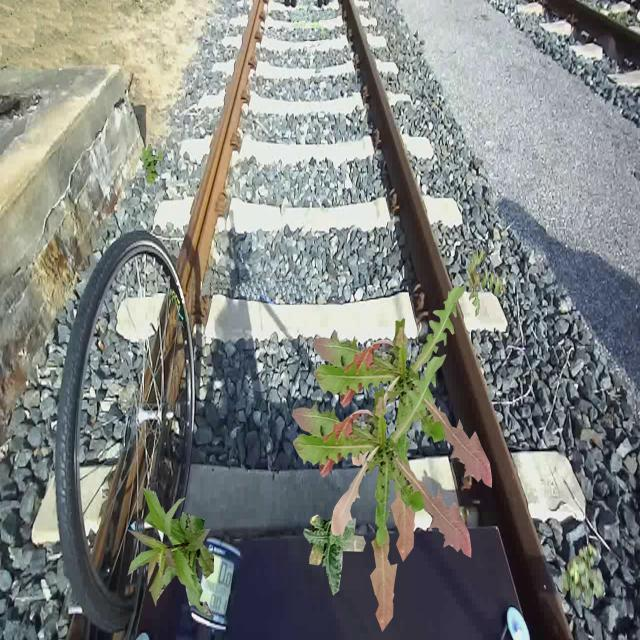Plant: (313, 285, 493, 563), (292, 355, 472, 633), (126, 487, 214, 617), (303, 515, 366, 598), (465, 245, 507, 316), (561, 542, 604, 608), (140, 144, 164, 185)
